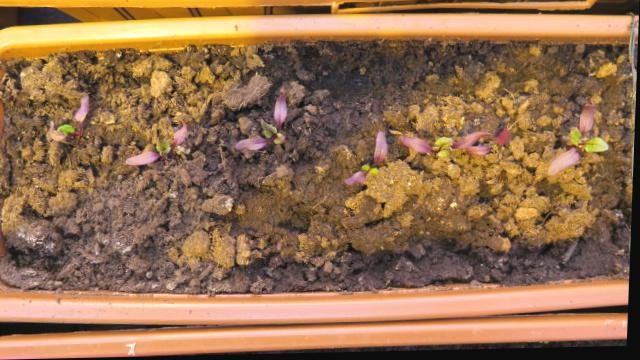crop: (543, 105, 616, 179), (230, 92, 292, 153), (121, 116, 193, 168), (339, 128, 388, 188), (43, 90, 94, 143)
